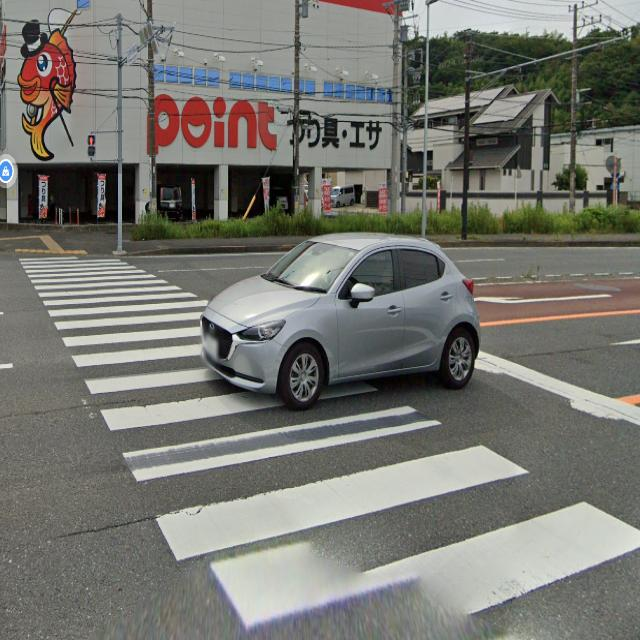traffic-light: (85, 130, 96, 164)
